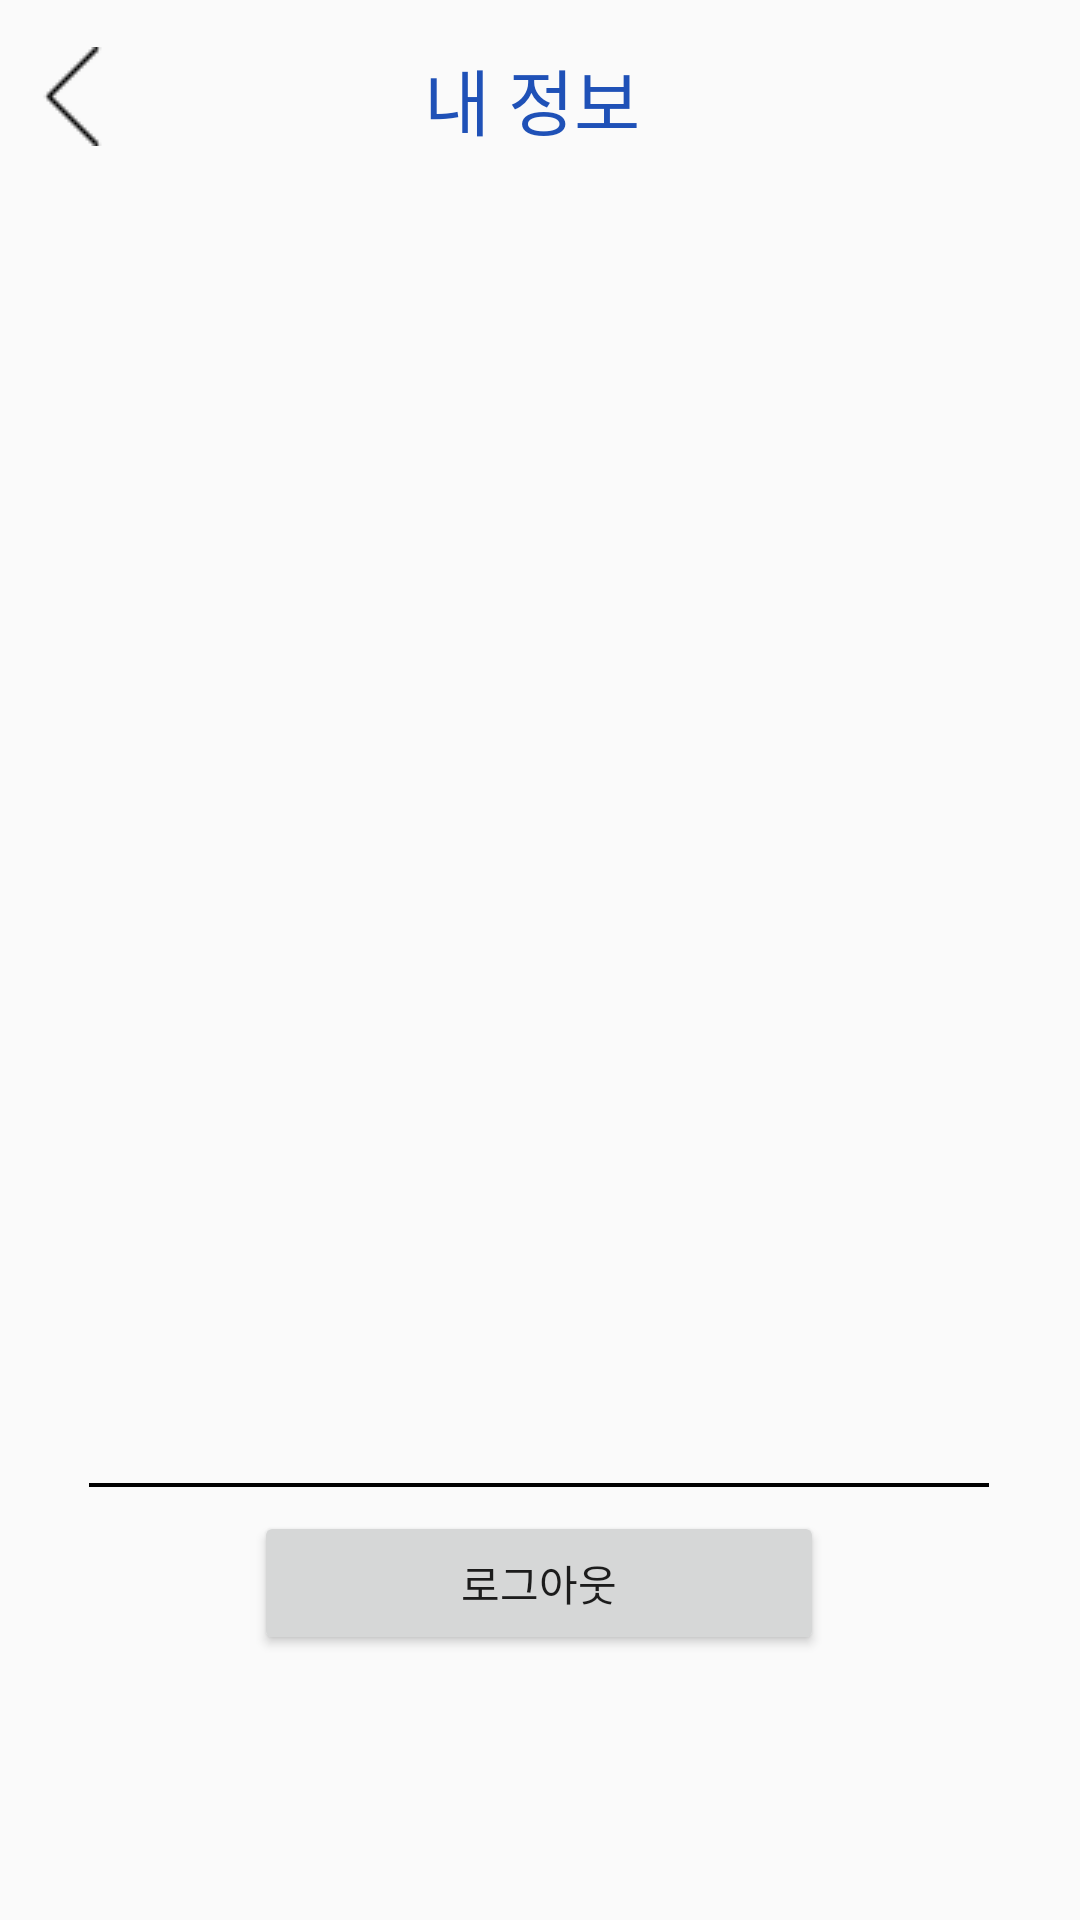

Locate icon controls on the screen. Image size 1080w x 1920h, boxes as rect(x1, y1, x2, y2).
뒤로가기: rect(45, 47, 100, 146)
